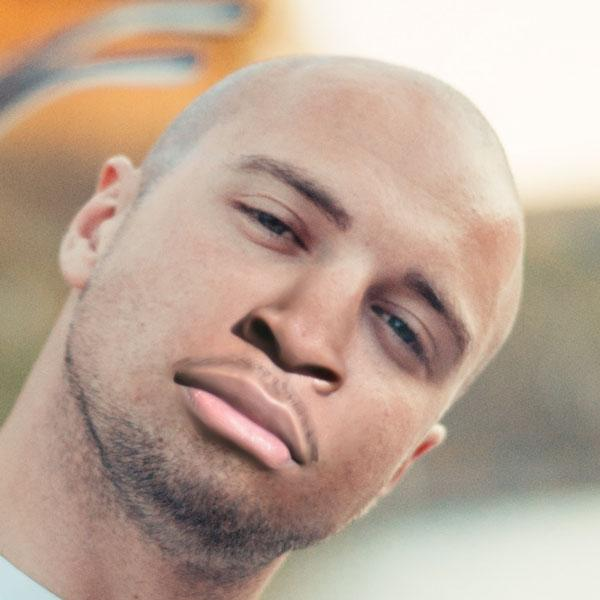Eyes: (224, 181, 316, 264), (364, 287, 438, 376)
